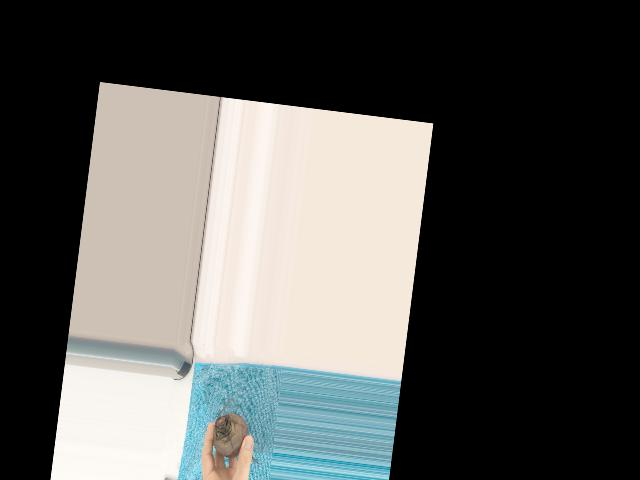beet: (210, 397, 267, 464)
